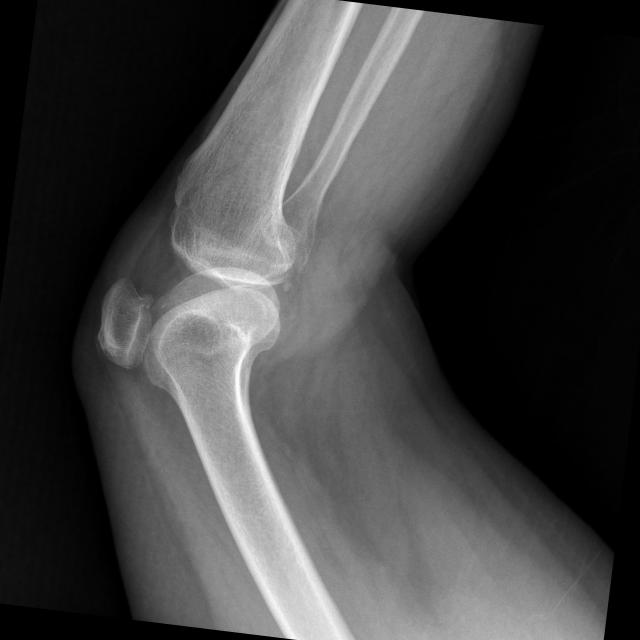Knee: (89, 168, 306, 404)
